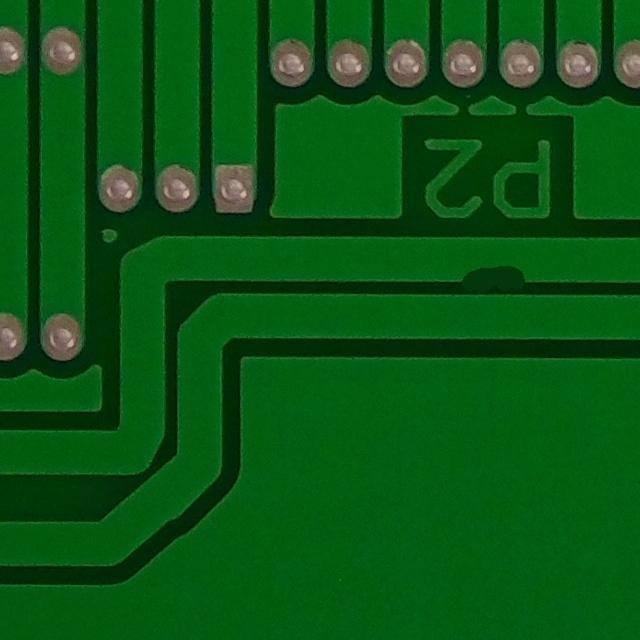mouse_bite: (453, 255, 539, 306)
